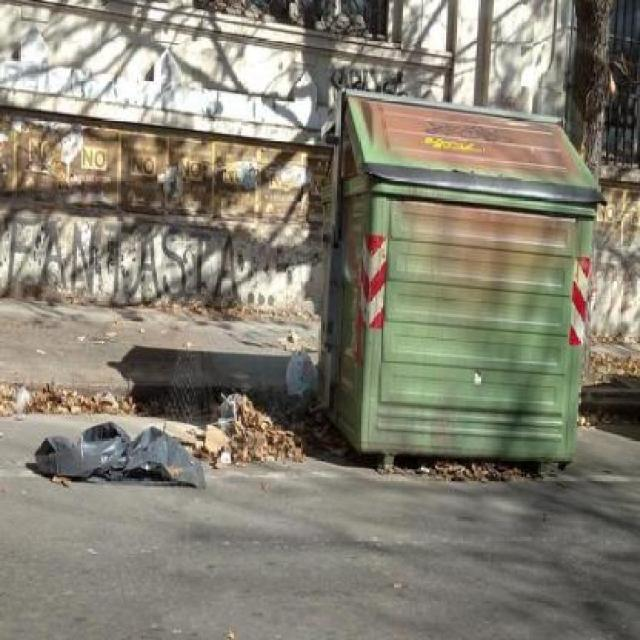garbage: (34, 422, 197, 504), (203, 386, 302, 480), (0, 376, 144, 427), (412, 448, 540, 492), (281, 336, 324, 427), (594, 349, 638, 384)
